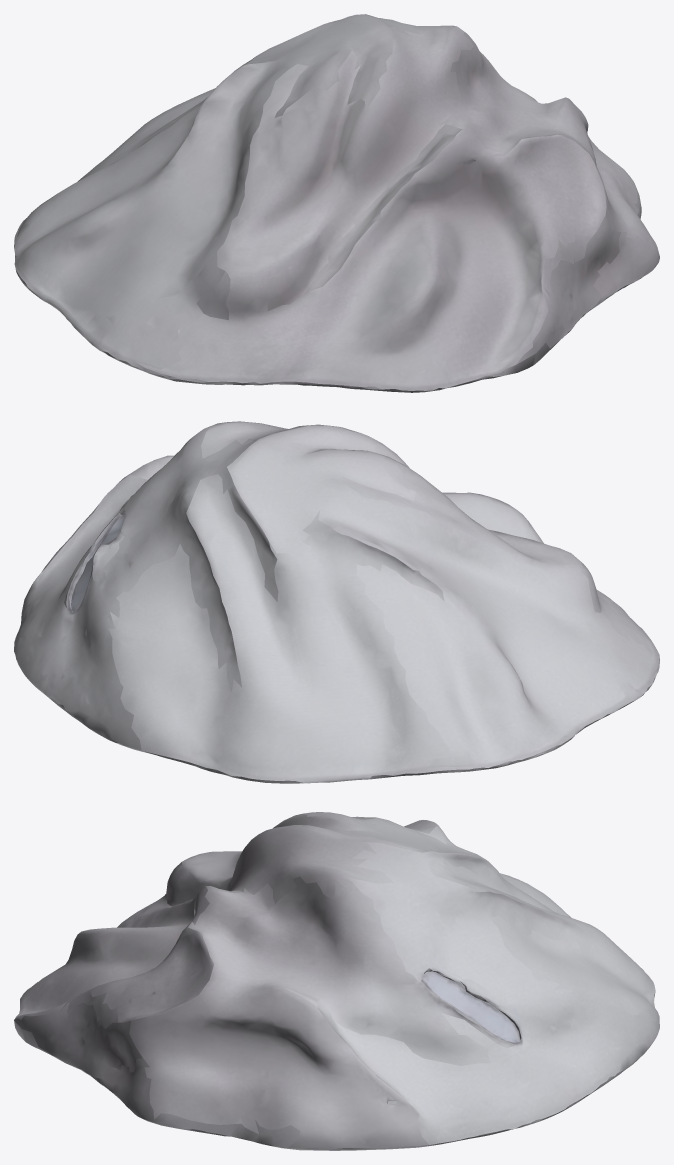
3 views of the same model, one above another, from view 1: azimuth 30°, elevation 25°; view 2: azimuth 150°, elevation 25°; view 3: azimuth 270°, elevation 25° (orthographic).
Visible parts, largest first — view 1: world; view 2: world; view 3: world.
Part boxes in pixels (<box>): world: <box>14,14,659,392</box>; world: <box>14,421,659,783</box>; world: <box>14,812,659,1150</box>.
Size of the model in its own units: 0.3 by 0.1123 by 0.3012.
Materials: 1 (1 with a texture image).
